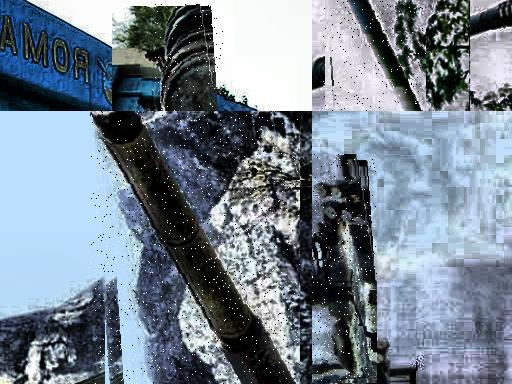tanks: (92, 112, 291, 384), (313, 156, 378, 383), (349, 1, 417, 112), (153, 5, 216, 112)
